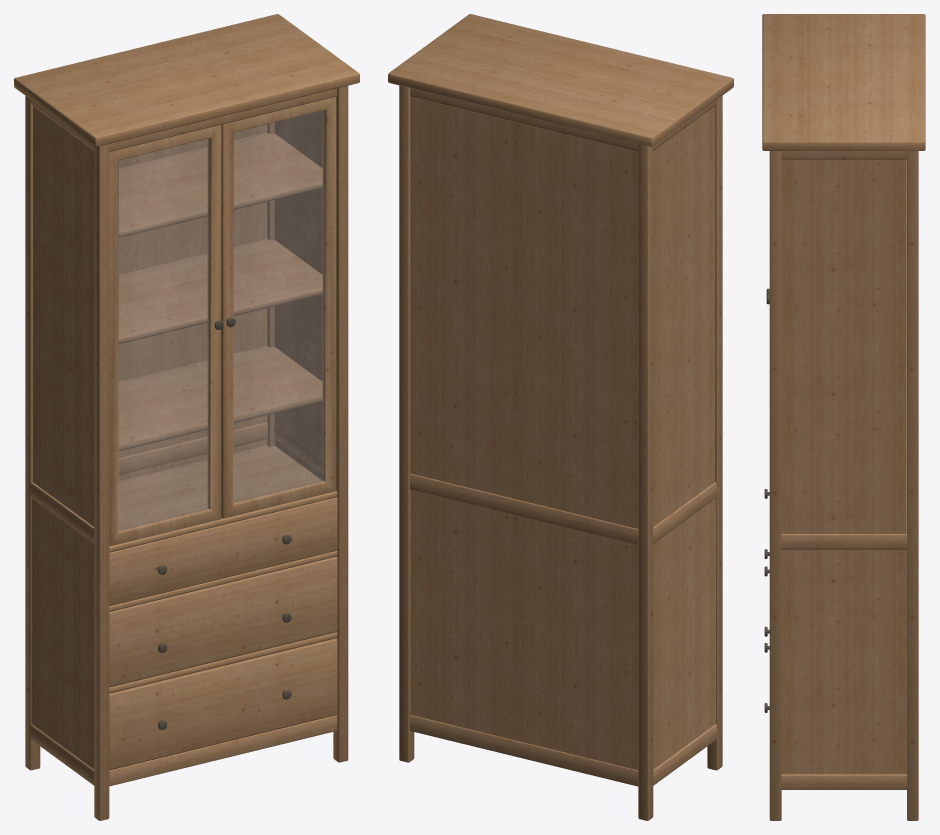
Rendered from obj_simple_tall_shelf_b46803.glb.
The picture shows the model from 3 angles, left to right: view 1: azimuth 30°, elevation 25°; view 2: azimuth 150°, elevation 25°; view 3: azimuth 270°, elevation 25°; orthographic projection.
Visible parts, largest first — view 1: obj_simple_tall_shelf_b46803; view 2: obj_simple_tall_shelf_b46803; view 3: obj_simple_tall_shelf_b46803.
Boxes of the visible parts, <box> form: obj_simple_tall_shelf_b46803: <box>14,14,359,820</box>; obj_simple_tall_shelf_b46803: <box>388,14,733,820</box>; obj_simple_tall_shelf_b46803: <box>762,14,925,820</box>.
Size of the model in its own units: 0.8049 by 2 by 0.4329.
1 material, 1 textured.
